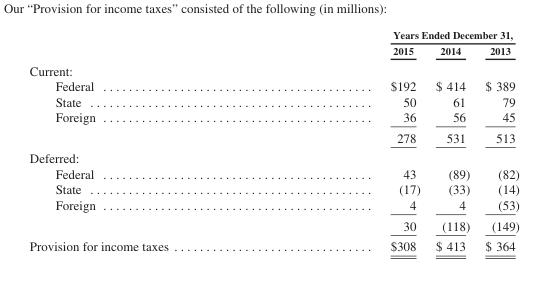table: (28, 28, 518, 253)
table column: (28, 28, 278, 253), (278, 28, 427, 253), (427, 28, 476, 253), (476, 28, 518, 253)
table column header: (28, 28, 518, 59)
table projected row header: (28, 59, 518, 77), (28, 147, 518, 165)
table row: (28, 126, 518, 147), (28, 214, 518, 235), (28, 59, 518, 77), (28, 108, 518, 126), (28, 147, 518, 165), (28, 196, 518, 214), (28, 235, 518, 253), (28, 42, 518, 59), (28, 77, 518, 93), (28, 165, 518, 181), (28, 93, 518, 108), (28, 181, 518, 196), (28, 28, 518, 42)
table spanning cell: (278, 28, 518, 42)
